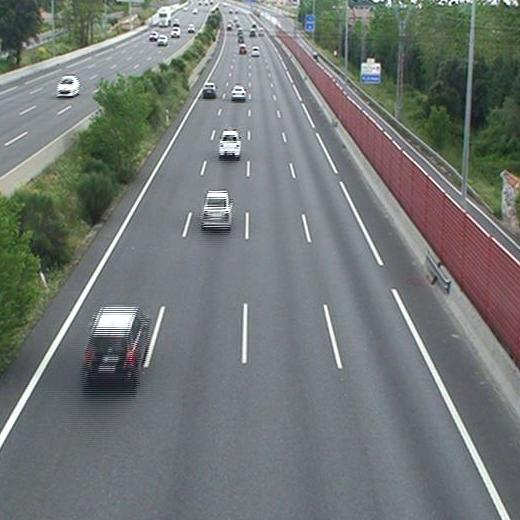car: (85, 307, 145, 379), (201, 192, 232, 228), (219, 132, 240, 157), (231, 85, 246, 100), (203, 83, 216, 95), (250, 47, 258, 56), (238, 45, 246, 53)
